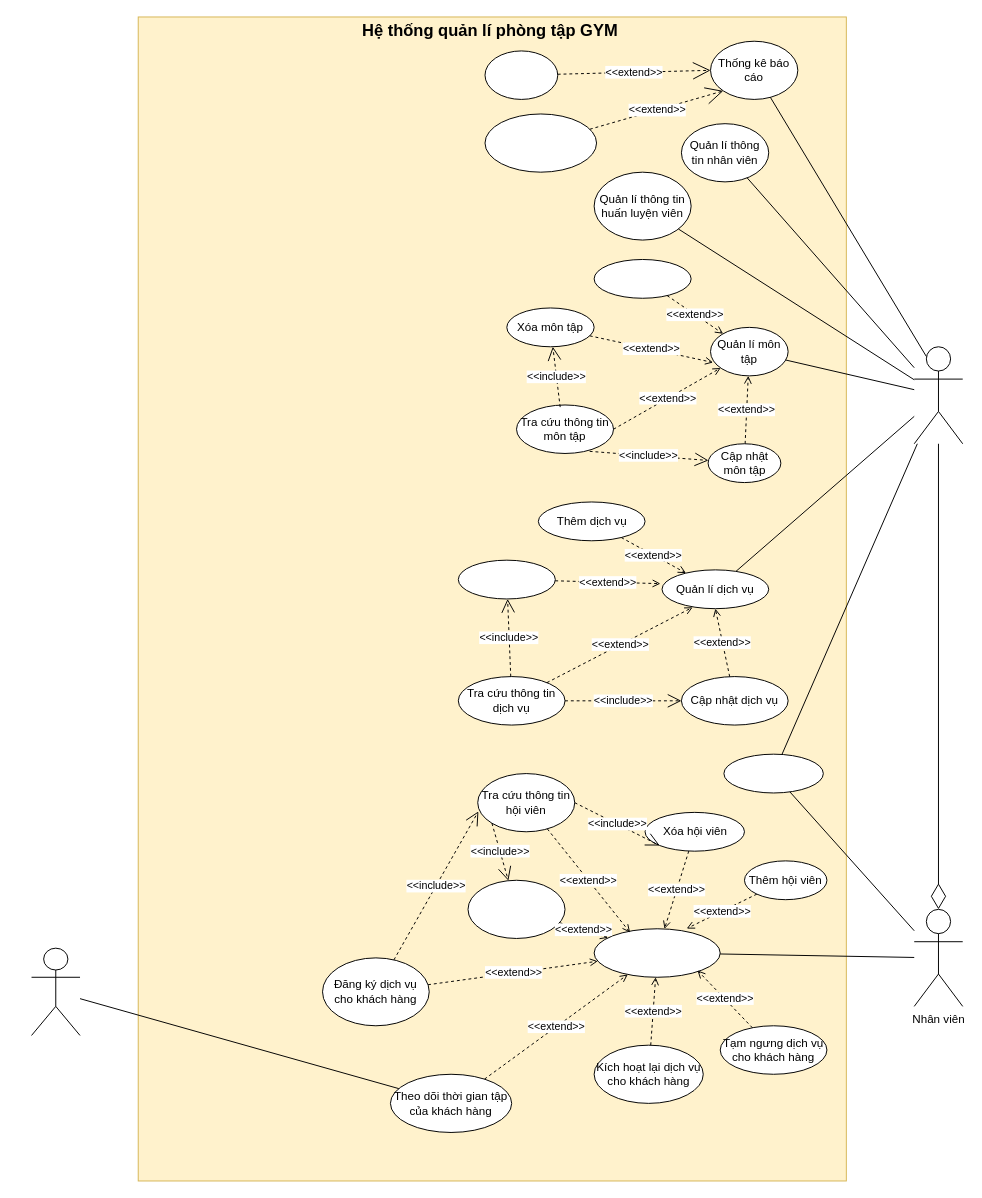
Image size: 982x1198. Some labels were removed from this diagram. The box of each missing label's shape, as (x1, y1, x2, y2) in pixels:
Báo cáo doanh thu: (484, 50, 558, 99)
Cập nhật thông tin hội viên: (467, 879, 565, 938)
Máy đọc thẻ từ: (31, 947, 80, 1035)
Quản lí thông tin hội viên: (593, 928, 720, 977)
Quản lý: (913, 346, 963, 444)
Thêm môn tập: (593, 259, 691, 298)
Thống kê số lượng khách hàng đi tập: (484, 113, 597, 172)
Xóa dịch vụ: (457, 559, 555, 599)
Đăng nhập: (723, 753, 823, 793)
